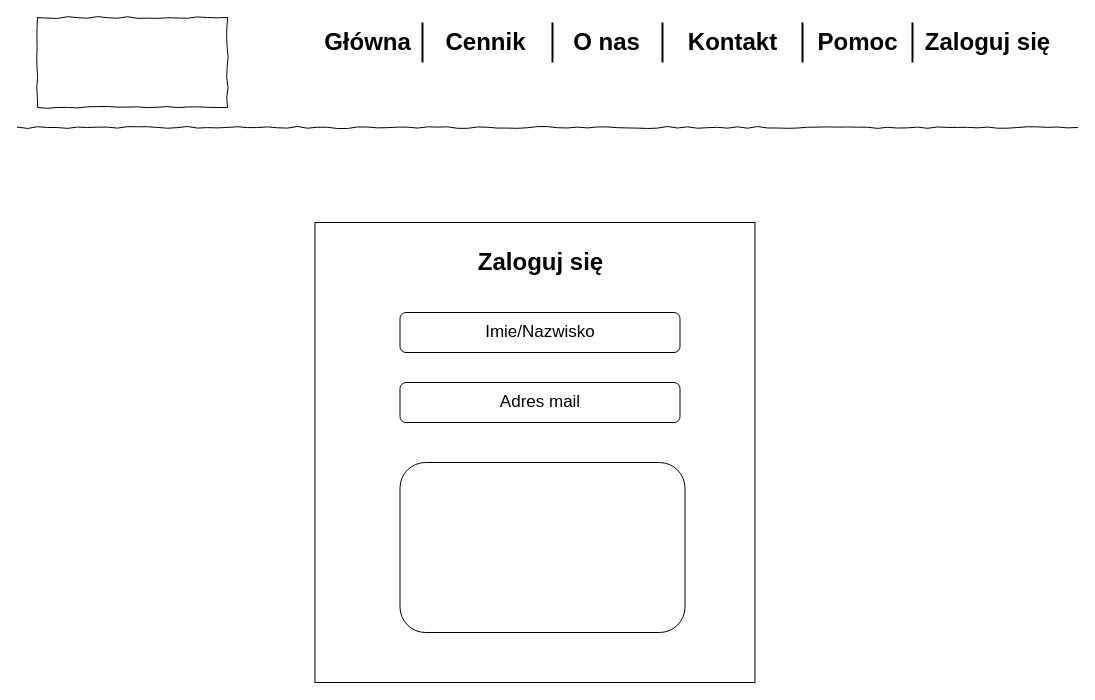
The diagram is 1095 pixels wide and 700 high, and some of its shapes have lost their labels. Here are the shapes that lost their labels. From the top down, the centre of each, then its label:
At point 132,62: "LOGO".
At point 542,547: "Info gdzie sprzedamy Twoje dane: zgoda".
